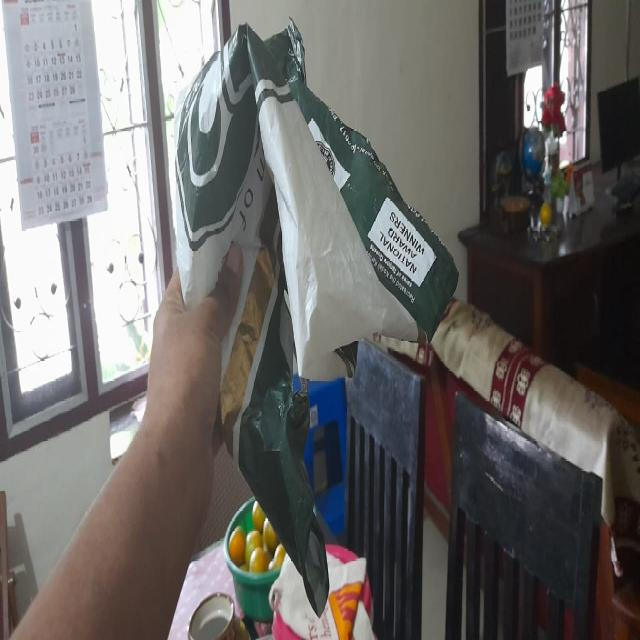Plastic - Recyclable: (166, 15, 463, 620)
